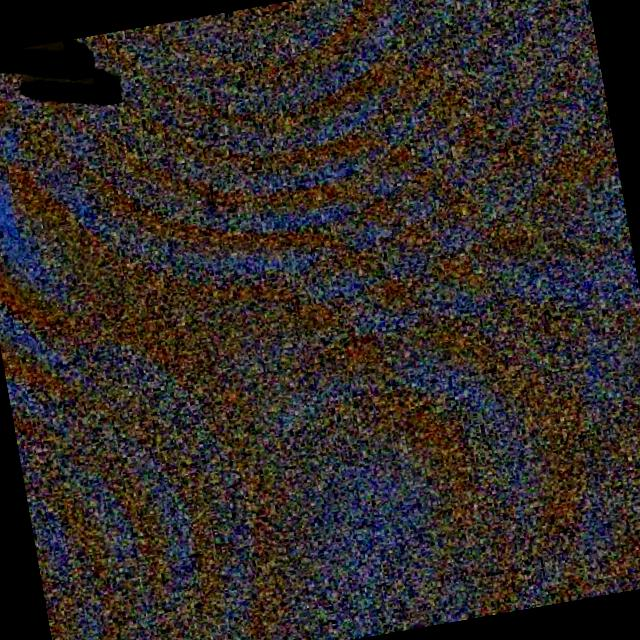Person: (0, 31, 127, 127)
